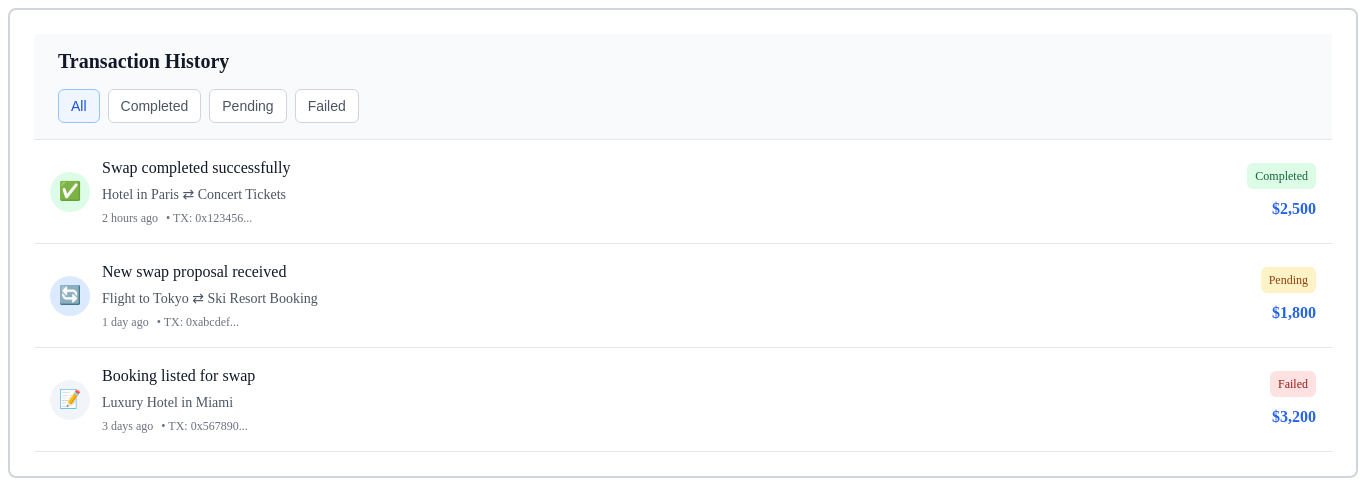
Test: TransactionHistory › filters transactions by pending status
# Click on "Pending" filter button (not the status badge)
Click the button "Pending". click: (248,106)
box: left=209, top=89, right=287, bottom=123
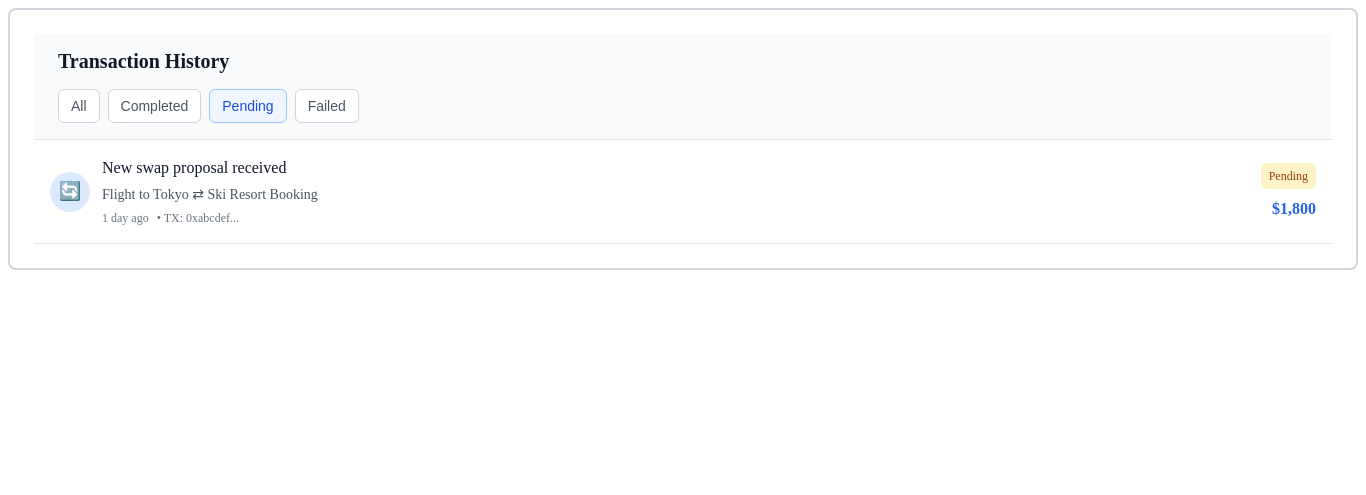
Expected: the text "New swap proposal received" is shown, left=102, top=159, right=286, bottom=176
Result: the text "Swap completed successfully" is gone
Result: the text "Booking listed for swap" is gone
